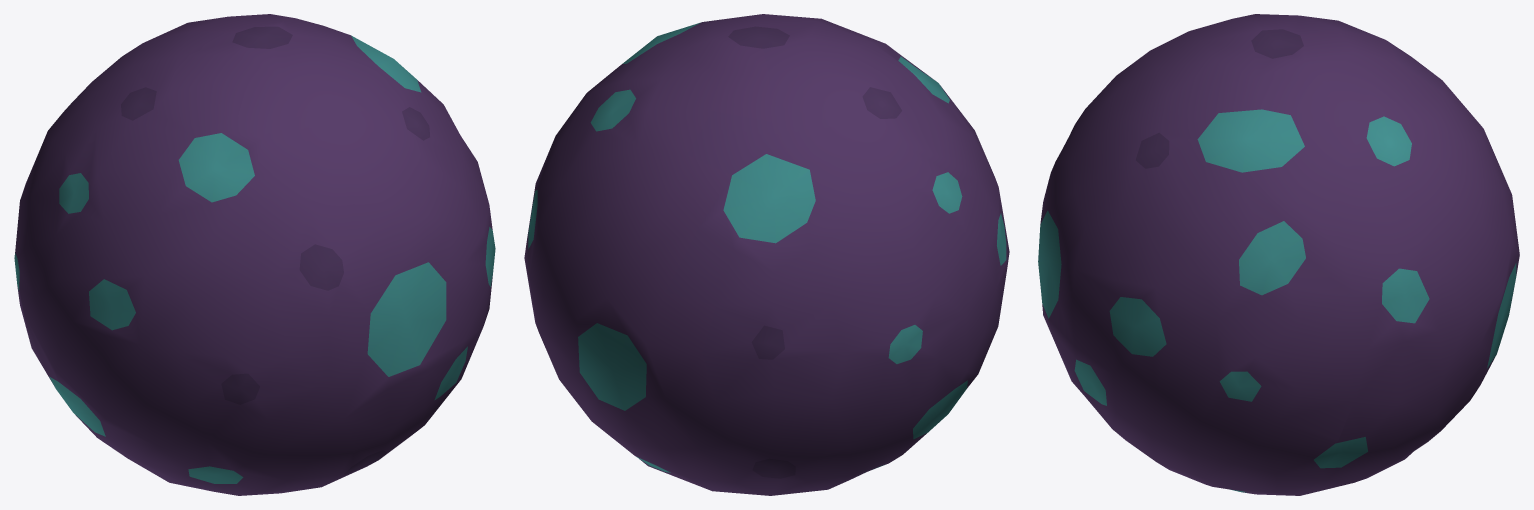
The model's file is Neptune.obj.
3 renders of one model, left to right at view 1: azimuth 30°, elevation 25°; view 2: azimuth 150°, elevation 25°; view 3: azimuth 270°, elevation 25°, orthographic.
Parts seen in each view (by area): view 1: Neptune; view 2: Neptune; view 3: Neptune.
Part boxes in pixels (x1,y1,x2,y2): Neptune: [14, 14, 495, 495]; Neptune: [524, 14, 1009, 495]; Neptune: [1038, 14, 1519, 495].
Bounding box in the file's own units: 16.84 × 16.69 × 16.81.
